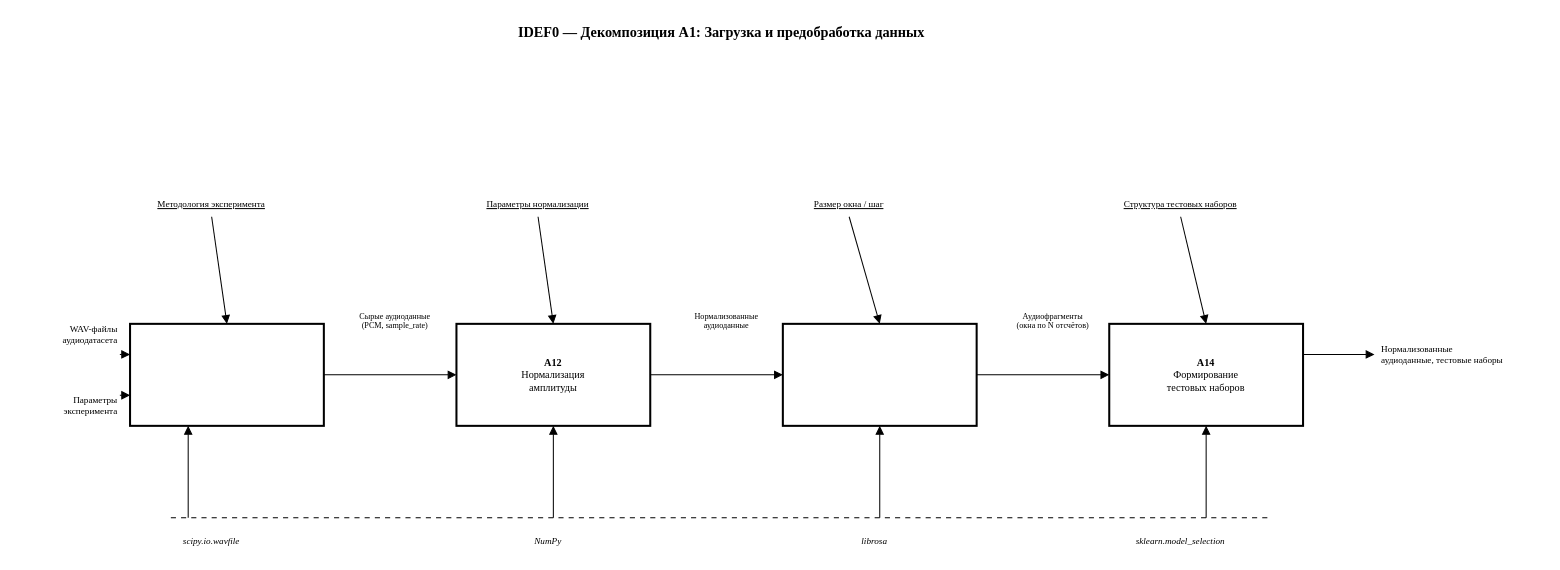
Image size: 1560x570. Some labels were removed from this diagram. Each missing label, with the centre of its shape:
A11 Чтение WAV-файлов: the point at 226,374
A13 Разбиение на фрагменты: the point at 879,374
